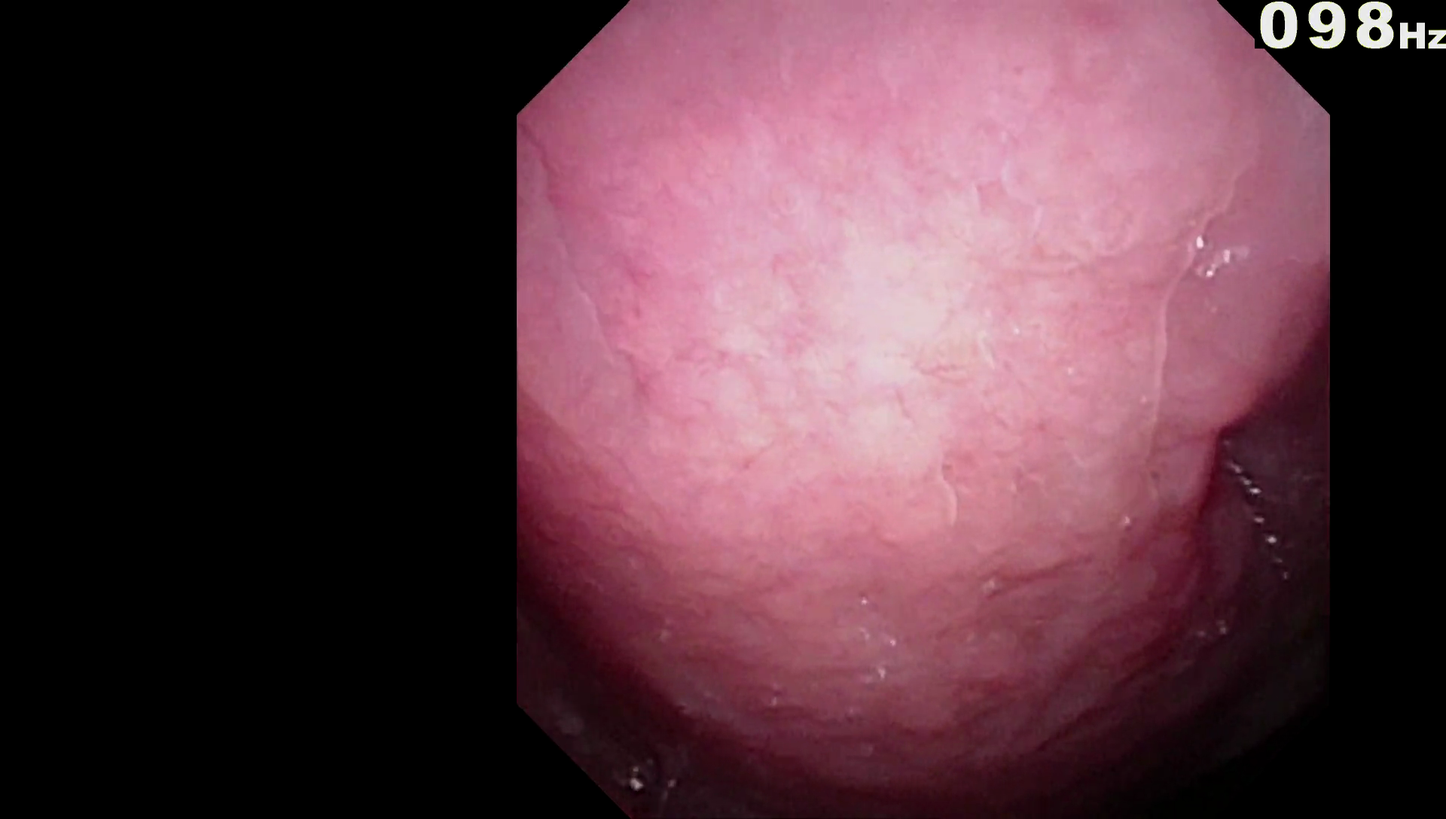close_wall: (572, 60, 1242, 584)
next: (1022, 622, 1299, 811)
